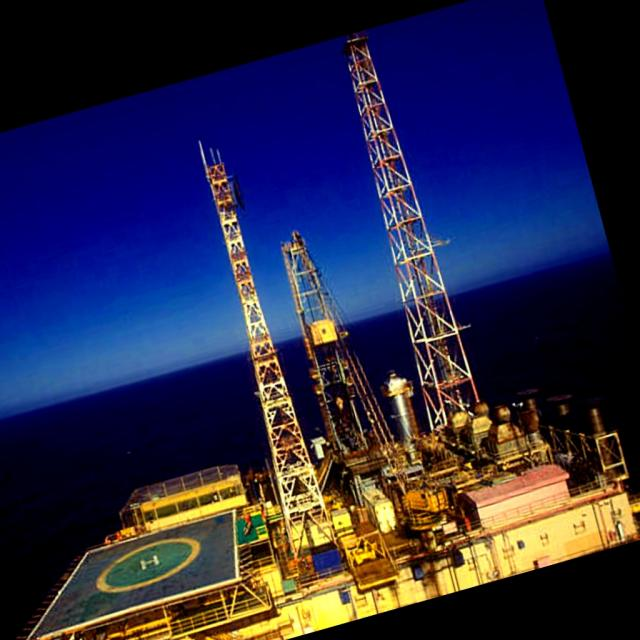helipad: (94, 534, 201, 594)
